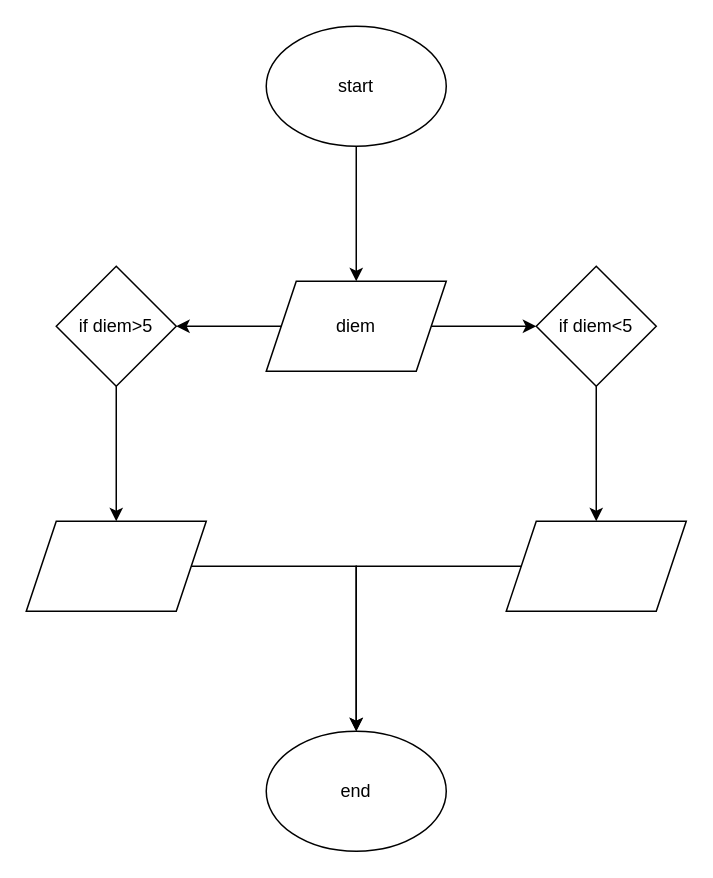
This 713x878 diagram has some shape labels left out. Each missing label, with the centre of its shape:
"dat" belongs at (115,565).
"khong dat" belongs at (595,565).
